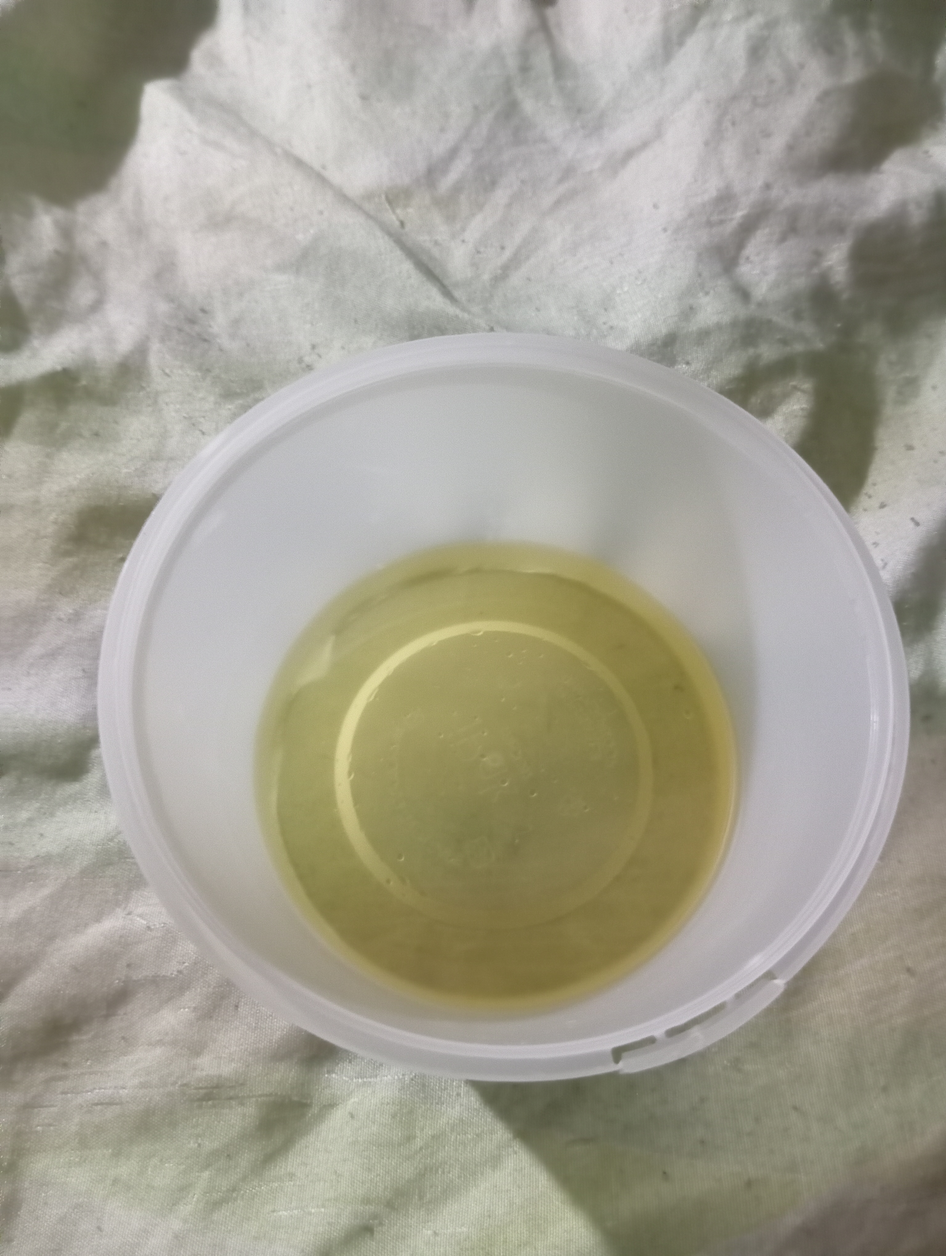reusable: (256, 530, 781, 1027)
